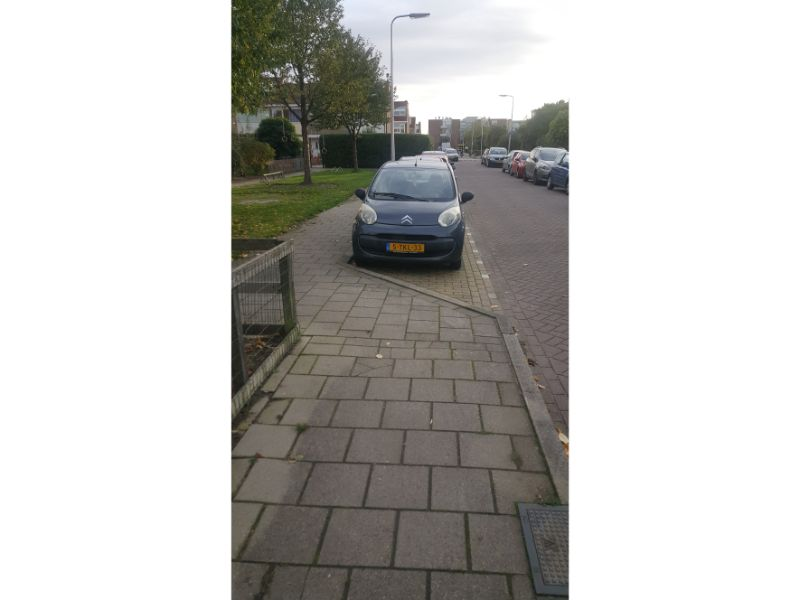kenteken: (388, 242, 426, 253)
